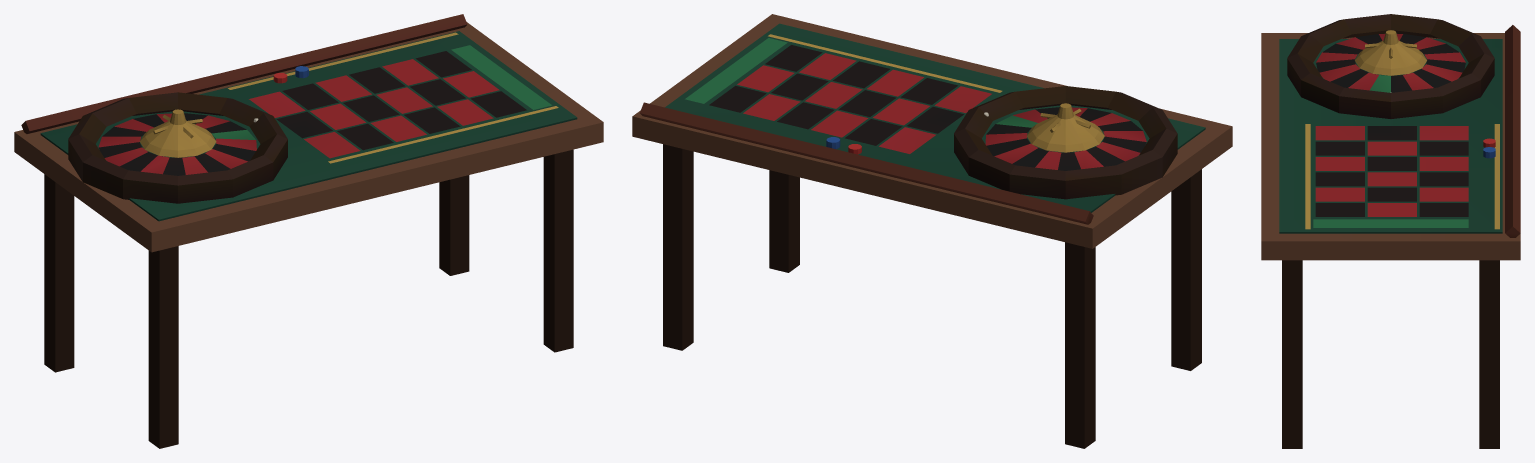
The model's file is table_roulette_low.glb.
3 renders of one model, left to right at view 1: azimuth 30°, elevation 25°; view 2: azimuth 150°, elevation 25°; view 3: azimuth 270°, elevation 25°, orthographic. The views are drawn at different scales.
Parts seen in each view (by area): view 1: table_roulette, roulette_wheel; view 2: table_roulette, roulette_wheel; view 3: table_roulette, roulette_wheel.
Boxes of the visible parts, x1,y1,x2,y2 form: table_roulette: [14, 14, 603, 448]; roulette_wheel: [98, 109, 256, 175]; table_roulette: [632, 14, 1232, 448]; roulette_wheel: [985, 103, 1146, 170]; table_roulette: [1261, 14, 1520, 448]; roulette_wheel: [1316, 30, 1465, 92].
Size of the model in its own units: 1.9 by 1.11 by 1.
